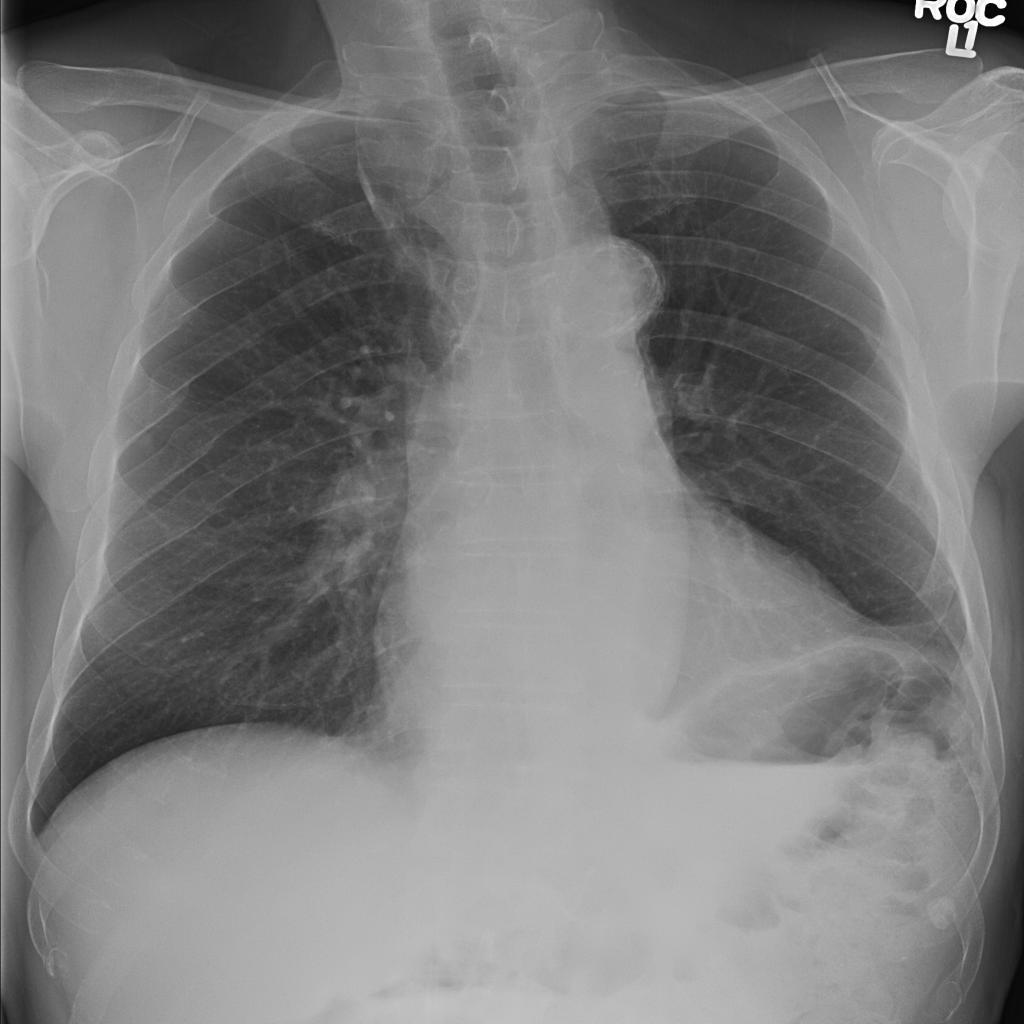Nodule: (74, 216, 101, 235)
